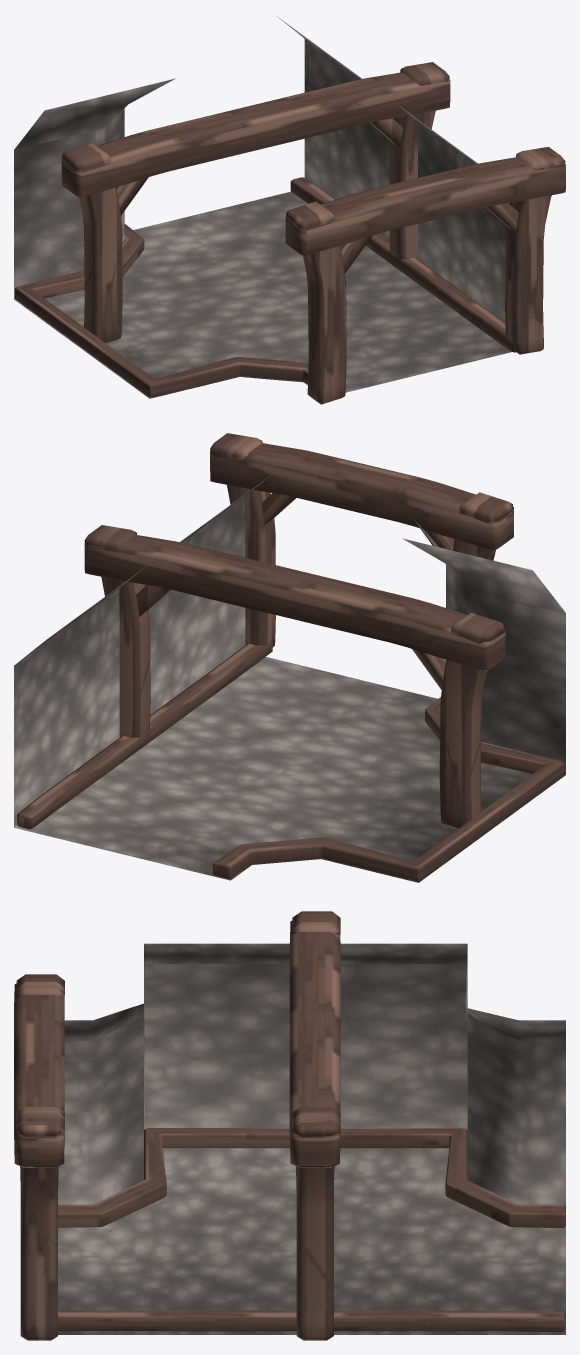
Rendered from SM_mine_module_03_B.glb.
3 views of the same model, one above another, from view 1: azimuth 30°, elevation 25°; view 2: azimuth 150°, elevation 25°; view 3: azimuth 270°, elevation 25° (orthographic). The views are drawn at different scales.
Parts seen in each view (by area): view 1: SM_mine_module_03_B; view 2: SM_mine_module_03_B; view 3: SM_mine_module_03_B.
Boxes of the visible parts, x1=… form: SM_mine_module_03_B: x1=14, y1=16, x2=565, y2=404; SM_mine_module_03_B: x1=14, y1=433, x2=565, y2=882; SM_mine_module_03_B: x1=14, y1=911, x2=565, y2=1340.
Size of the model in its own units: 10.32 by 5.06 by 11.
Materials: 2 (2 with a texture image).
